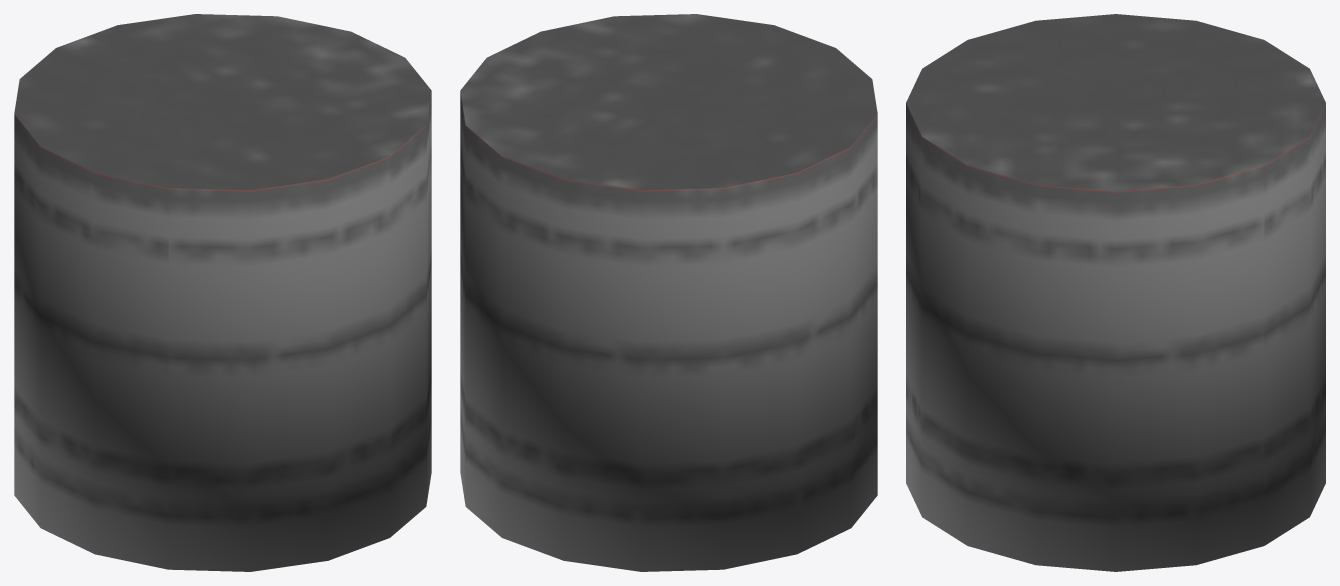
File: boite.fbx
The picture shows the model from 3 angles, left to right: view 1: azimuth 30°, elevation 25°; view 2: azimuth 150°, elevation 25°; view 3: azimuth 270°, elevation 25°; orthographic projection.
Visible parts, largest first — view 1: boite; view 2: boite; view 3: boite.
Part boxes in pixels (<box>): boite: <box>14,14,431,571</box>; boite: <box>460,14,877,571</box>; boite: <box>906,14,1325,571</box>.
Bounding box in the file's own units: 0.2 × 0.2 × 0.2.
